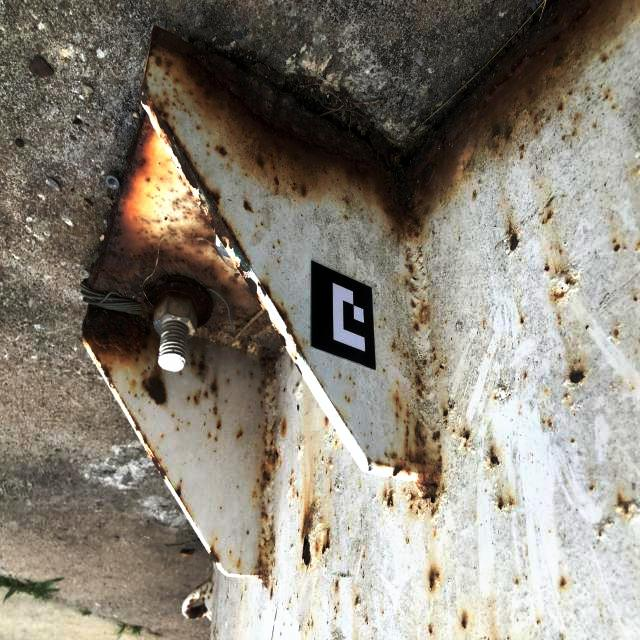Corrosion: (147, 0, 625, 244), (82, 109, 262, 409), (139, 56, 251, 269), (384, 419, 447, 519), (251, 416, 282, 591), (257, 281, 308, 364), (128, 410, 168, 481), (194, 294, 237, 347), (301, 502, 324, 572), (255, 341, 281, 400), (263, 307, 287, 347), (550, 271, 578, 303), (171, 479, 191, 519), (190, 351, 209, 384), (244, 277, 264, 308), (184, 598, 208, 620), (565, 367, 586, 389), (506, 225, 521, 252), (616, 494, 631, 517), (415, 372, 426, 400), (428, 568, 440, 593), (419, 299, 430, 326), (246, 320, 263, 334), (460, 428, 470, 448), (209, 547, 220, 565), (404, 278, 417, 293), (394, 390, 402, 411), (542, 212, 554, 225), (215, 145, 228, 157), (235, 264, 246, 278), (321, 538, 330, 555), (490, 453, 500, 468), (293, 362, 303, 377), (210, 378, 219, 394), (193, 387, 201, 405), (240, 338, 248, 356), (503, 126, 513, 140), (244, 200, 254, 214), (199, 586, 208, 600), (393, 465, 403, 477), (375, 460, 390, 468), (281, 419, 287, 436), (239, 263, 249, 273), (461, 614, 467, 630), (291, 488, 299, 499), (387, 494, 393, 508), (409, 490, 416, 502), (497, 498, 504, 510), (366, 457, 372, 471), (406, 410, 415, 419), (431, 346, 436, 362), (354, 595, 360, 608), (563, 393, 571, 402), (442, 408, 449, 418), (410, 300, 417, 310), (613, 328, 619, 339), (212, 405, 218, 416), (342, 198, 350, 206), (236, 431, 244, 439), (559, 579, 566, 588), (613, 244, 620, 253), (413, 322, 419, 332), (408, 264, 414, 274), (597, 528, 603, 538), (557, 103, 563, 113), (543, 264, 550, 272), (236, 557, 241, 568), (602, 54, 608, 63), (216, 420, 222, 429), (270, 584, 273, 601), (472, 189, 477, 199), (324, 415, 329, 425), (588, 485, 595, 492), (335, 581, 339, 593), (404, 352, 410, 360), (392, 340, 396, 352), (509, 499, 515, 507), (519, 143, 525, 151), (310, 620, 314, 632), (260, 400, 264, 411), (438, 364, 444, 371), (571, 130, 577, 137), (203, 392, 209, 399), (558, 315, 562, 325), (561, 134, 566, 142), (289, 476, 293, 486), (209, 585, 213, 595), (523, 372, 527, 381), (548, 420, 552, 429), (345, 396, 350, 403), (271, 395, 276, 402), (429, 627, 433, 635), (449, 402, 453, 410), (422, 359, 427, 365), (519, 154, 524, 160), (570, 438, 575, 444), (592, 123, 597, 129), (444, 420, 448, 427), (435, 370, 439, 377), (634, 295, 638, 302), (605, 93, 609, 100), (579, 61, 583, 68), (515, 578, 519, 585), (298, 626, 301, 635), (409, 504, 413, 510), (405, 538, 409, 544), (520, 318, 524, 324), (529, 110, 533, 116), (607, 519, 611, 525), (542, 419, 546, 425), (568, 90, 572, 96), (196, 124, 200, 130), (207, 433, 211, 439), (384, 492, 387, 499), (291, 469, 294, 476), (395, 413, 399, 418), (418, 254, 423, 258), (344, 215, 348, 220), (533, 120, 537, 125), (493, 395, 497, 400), (585, 325, 589, 330), (176, 372, 181, 376), (298, 445, 301, 451), (215, 436, 218, 442), (418, 505, 421, 510), (415, 510, 418, 515), (403, 419, 406, 424), (187, 396, 190, 401), (246, 530, 249, 535), (294, 356, 297, 360), (258, 426, 261, 430), (537, 620, 539, 624), (207, 144, 209, 148), (536, 131, 538, 134), (335, 441, 337, 444), (389, 476, 392, 478)
